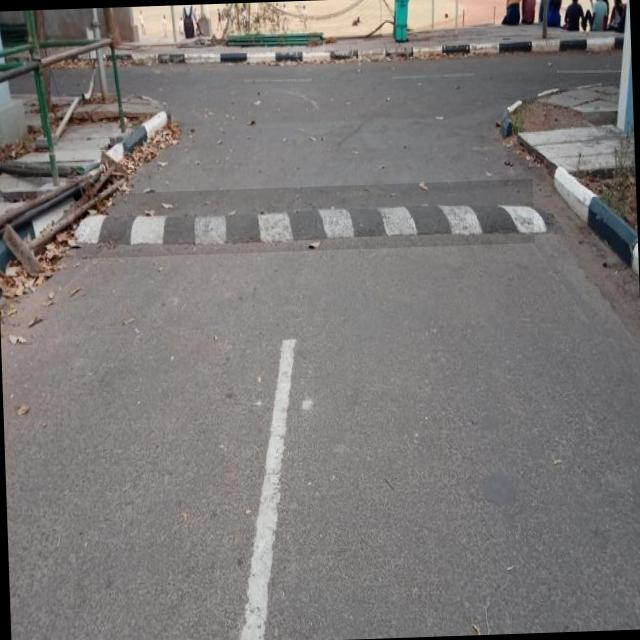bump: (73, 179, 534, 259)
